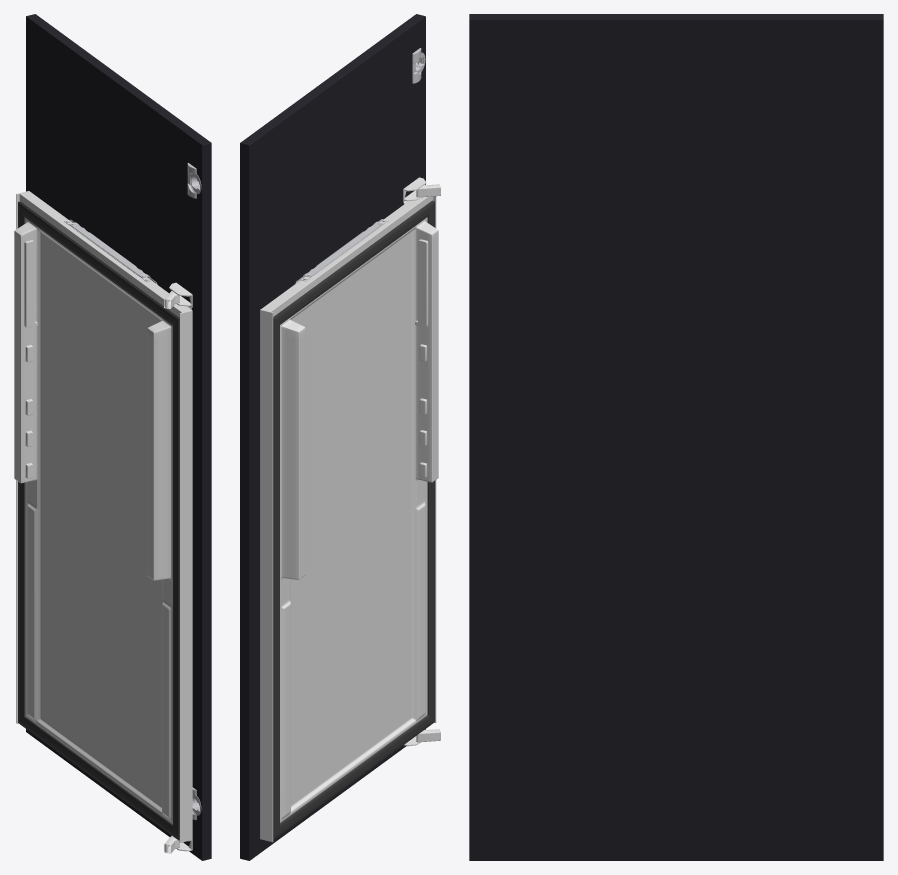
The model's file is FridgeDoor01.fbx.
The picture shows the model from 3 angles, left to right: view 1: azimuth 30°, elevation 25°; view 2: azimuth 150°, elevation 25°; view 3: azimuth 270°, elevation 25°; orthographic projection. The views are drawn at different scales.
Parts seen in each view (by area): view 1: FridgeDoor01; view 2: FridgeDoor01; view 3: FridgeDoor01.
Part boxes in pixels (x1=…): FridgeDoor01: x1=14, y1=14, x2=211, y2=860; FridgeDoor01: x1=240, y1=14, x2=440, y2=860; FridgeDoor01: x1=469, y1=14, x2=883, y2=860.
Bounding box in the file's own units: 7.89 × 59.69 × 134.
5 materials, 2 textured.
